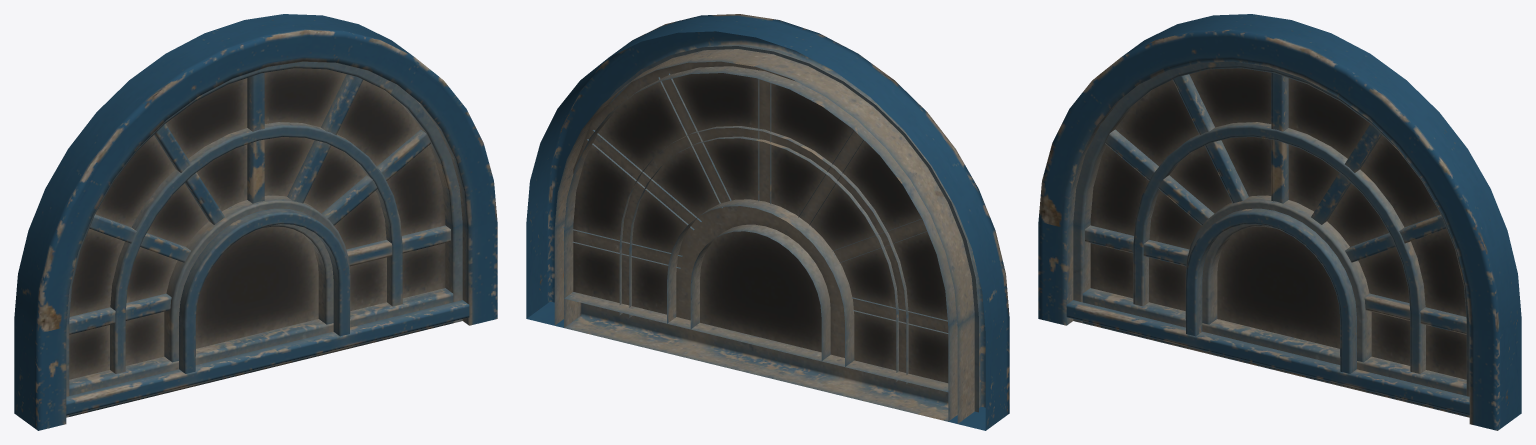
Rendered from SM_WindowTop.FBX.
The picture shows the model from 3 angles, left to right: view 1: azimuth 30°, elevation 25°; view 2: azimuth 150°, elevation 25°; view 3: azimuth 330°, elevation 25°; orthographic projection.
Visible parts, largest first — view 1: SM_WindowTop; view 2: SM_WindowTop; view 3: SM_WindowTop.
Part boxes in pixels (box(x1,y1,x2,y2)): SM_WindowTop: box(14, 14, 497, 430); SM_WindowTop: box(526, 14, 1009, 430); SM_WindowTop: box(1038, 14, 1521, 430).
Size of the model in its own units: 234 by 21.03 by 165.
